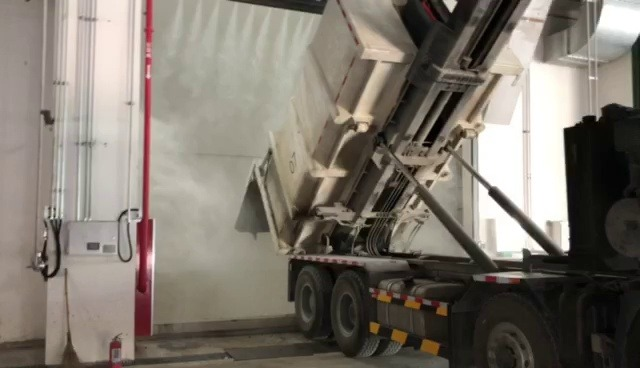dust: (142, 66, 298, 288)
truck: (260, 1, 640, 368)
